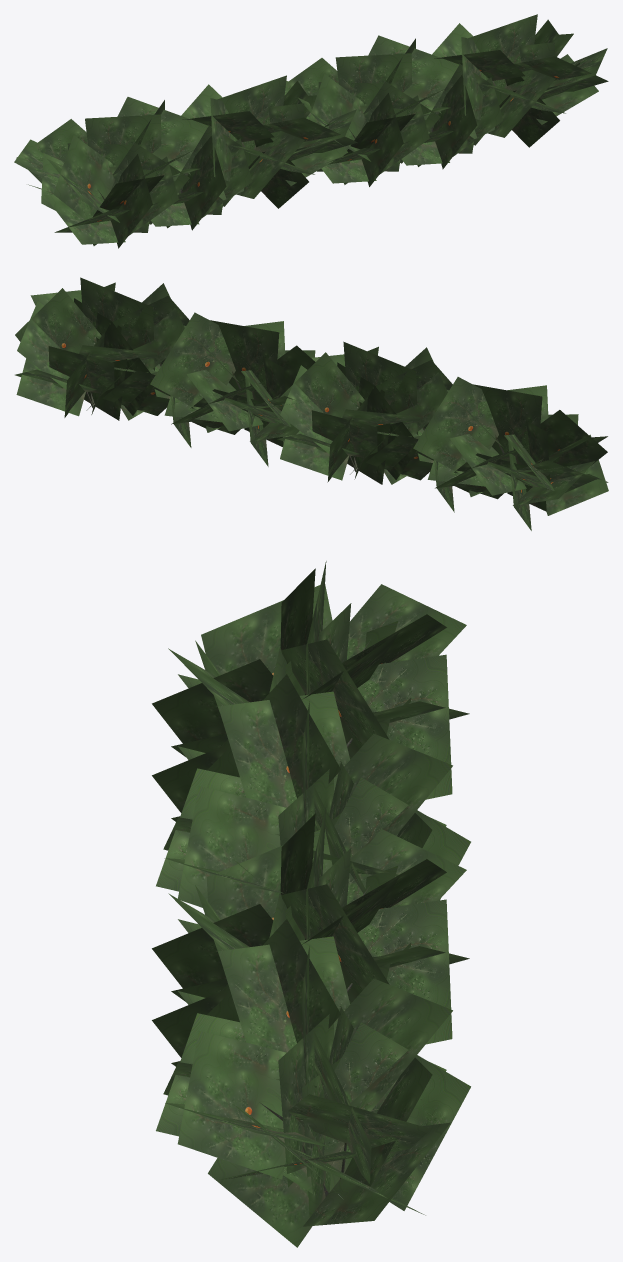
The model's file is grass_orange.FBX.
The picture shows the model from 3 angles, top to bottom: view 1: azimuth 30°, elevation 25°; view 2: azimuth 150°, elevation 25°; view 3: azimuth 270°, elevation 25°; orthographic projection. The views are drawn at different scales.
Visible parts, largest first — view 1: polySurface_orange; view 2: polySurface_orange; view 3: polySurface_orange.
Boxes of the visible parts, x1,y1,x2,y2 form: polySurface_orange: (14,14,608,248); polySurface_orange: (15,277,608,530); polySurface_orange: (152,561,470,1247).
Bounding box in the file's own units: 1166 × 259 × 287.
